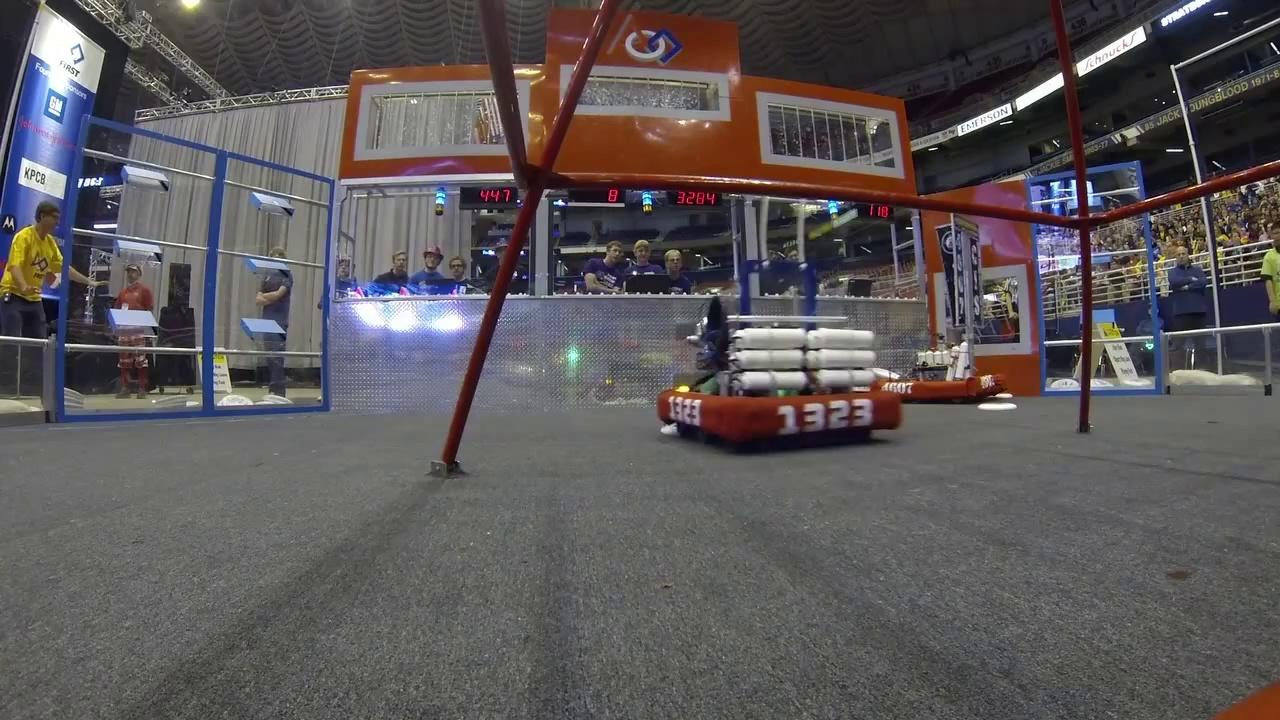robot: (652, 260, 903, 448), (875, 211, 1000, 407)
